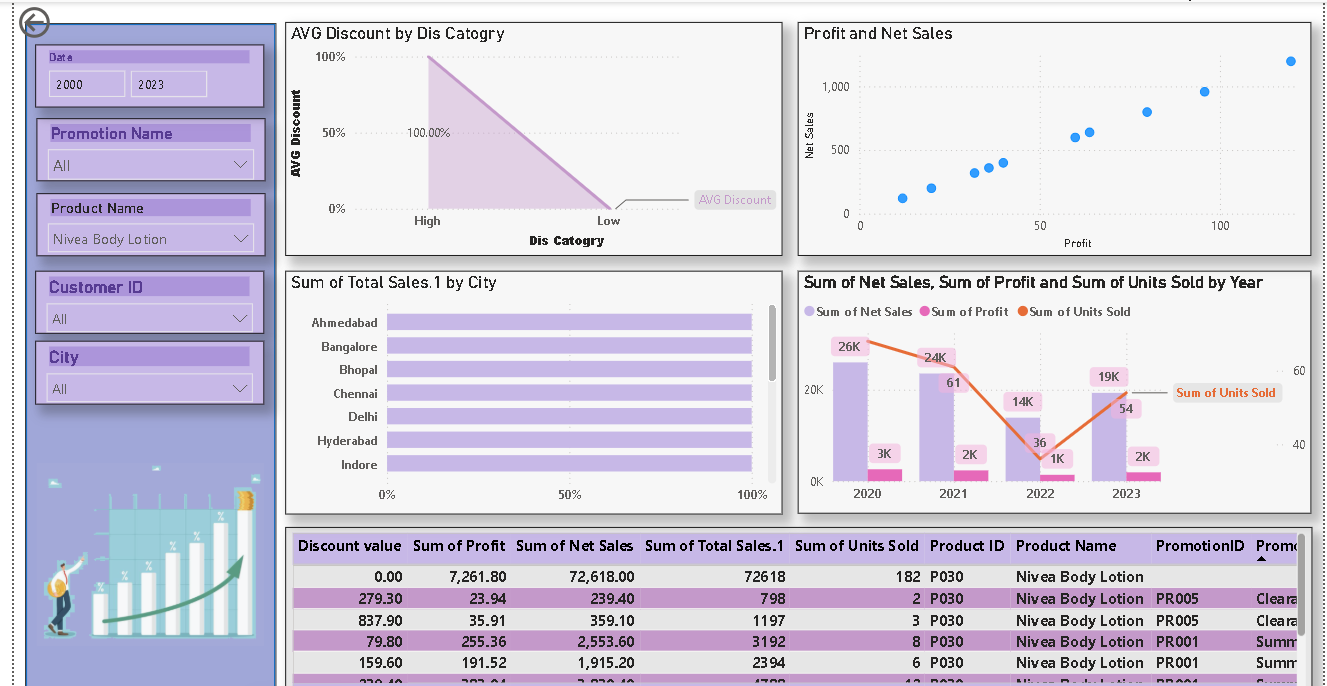

What the dashboard file says about the page in this screenshot:
{"tool":"powerbi","page":{"name":"Profit vs Sales","canvas":[1280,720],"ordinal":1},"visuals":[{"type":"hundredPercentStackedAreaChart","fields":{"Category":["FACT-TABLE.Dis Catogry"],"Y":["Table.AVG Discount"]},"box":[265.4,19.6,486.7,228.7],"z":0},{"type":"tableEx","fields":{"Values":["FACT-TABLE.Discount value","Sum(FACT-TABLE.Profit )","Sum(FACT-TABLE.Net Sales)","Sum(FACT-TABLE.Total Sales.1)","Sum(FACT-TABLE.Units Sold)","FACT-TABLE.Product ID","Dim Product.Product Name","Dim Promotion.PromotionID","Dim Promotion.Promotion Name"]},"box":[264.8,513.2,1004.5,189.4],"z":1000},{"type":"shape","box":[11,20.6,245.6,684.7],"z":2000},{"type":"slicer","fields":{"Values":["Dim Promotion.Promotion Name"]},"box":[22,113.9,223.7,61.7],"z":3000},{"type":"slicer","fields":{"Values":["Dim Product.Product Name"]},"box":[22,186.6,223.7,61.7],"z":4000},{"type":"slicer","fields":{"Values":["Dim Customers.Customer ID"]},"box":[20.6,263.5,223.7,61.7],"z":5000},{"type":"slicer","fields":{"Values":["Dim Customers.City"]},"box":[20.8,331.4,223.8,62.4],"z":6000},{"type":"slicer","fields":{"Values":["FACT-TABLE.Date (dd/mm/yyyy).Variation.Date Hierarchy.Year"]},"box":[20.6,41.2,223.7,61.7],"z":7000},{"type":"hundredPercentStackedBarChart","fields":{"Category":["Dim Customers.City"],"Y":["Sum(FACT-TABLE.Total Sales.1)"]},"box":[265.4,262.9,486.7,238.5],"z":8000},{"type":"actionButton","box":[0,0,100,40],"z":9000},{"type":"lineClusteredColumnComboChart","fields":{"Y2":["Sum(FACT-TABLE.Units Sold)"],"Y":["Sum(FACT-TABLE.Net Sales)","Sum(FACT-TABLE.Profit )"],"Category":["FACT-TABLE.Date (dd/mm/yyyy).Variation.Date Hierarchy.Year"]},"box":[766.7,262.9,502.6,237.2],"z":10000},{"type":"scatterChart","fields":{"X":["FACT-TABLE.Profit "],"Y":["FACT-TABLE.Net Sales"]},"box":[766.7,19.6,502.6,228.7],"z":11000},{"type":"image","box":[22,413.3,222.6,254.3],"z":12000}]}

Visuals, with their boxes on the page's 1280x720 design canvas (x1, y1, x2, y2). These are canvas units, not pixel positions in the 1327x686 screenshot, which may show the page scaled, cropped or inside an application window:
hundredPercentStackedAreaChart - FACT-TABLE.Dis Catogry x Table.AVG Discount: region(265, 20, 752, 248)
tableEx - FACT-TABLE.Discount value x Sum(FACT-TABLE.Profit ): region(265, 513, 1269, 703)
shape: region(11, 21, 257, 705)
slicer - Dim Promotion.Promotion Name: region(22, 114, 246, 176)
slicer - Dim Product.Product Name: region(22, 187, 246, 248)
slicer - Dim Customers.Customer ID: region(21, 264, 244, 325)
slicer - Dim Customers.City: region(21, 331, 245, 394)
slicer - FACT-TABLE.Date (dd/mm/yyyy).Variation.Date Hierarchy.Year: region(21, 41, 244, 103)
hundredPercentStackedBarChart - Dim Customers.City x Sum(FACT-TABLE.Total Sales.1): region(265, 263, 752, 501)
actionButton: region(0, 0, 100, 40)
lineClusteredColumnComboChart - Sum(FACT-TABLE.Units Sold) x Sum(FACT-TABLE.Net Sales): region(767, 263, 1269, 500)
scatterChart - FACT-TABLE.Profit  x FACT-TABLE.Net Sales: region(767, 20, 1269, 248)
image: region(22, 413, 245, 668)
